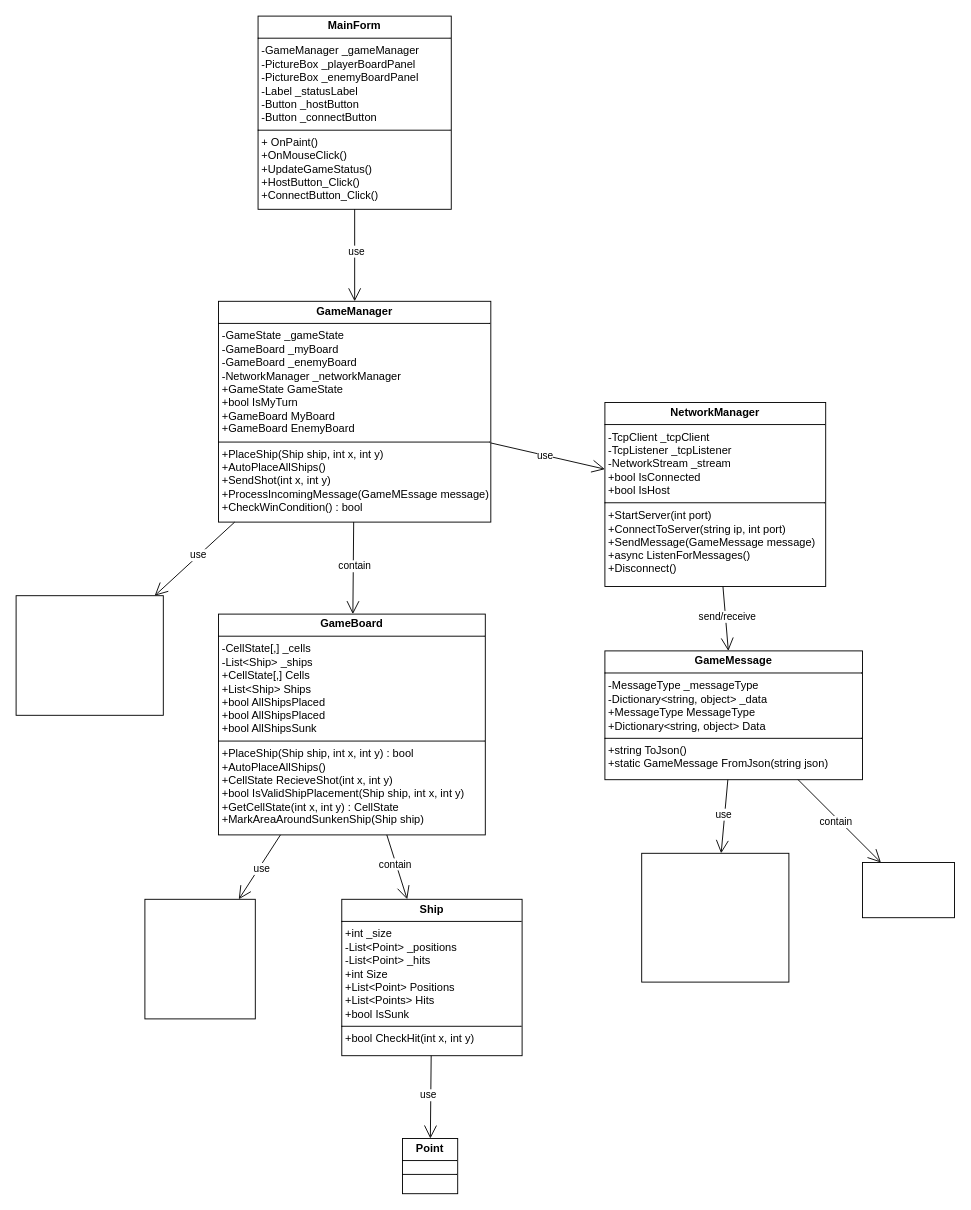
Some shapes in this 971 by 1210 pixel diagram are drawn without their labels. The shapes that lost their labels are listed below. From the top down, each one's centre as x and y in pixels, then its label:
At (89,655): "enum GameState Placement WaitingForConnection MyTurn EnemyTurn GameOver".
At (908,890): "Dictionary".
At (715,917): "enum MessageType Connect StartGame Shot ShotResult GameOver Chat".
At (199,958): "enum CellState Empty Ship Miss Hit Sunk".
